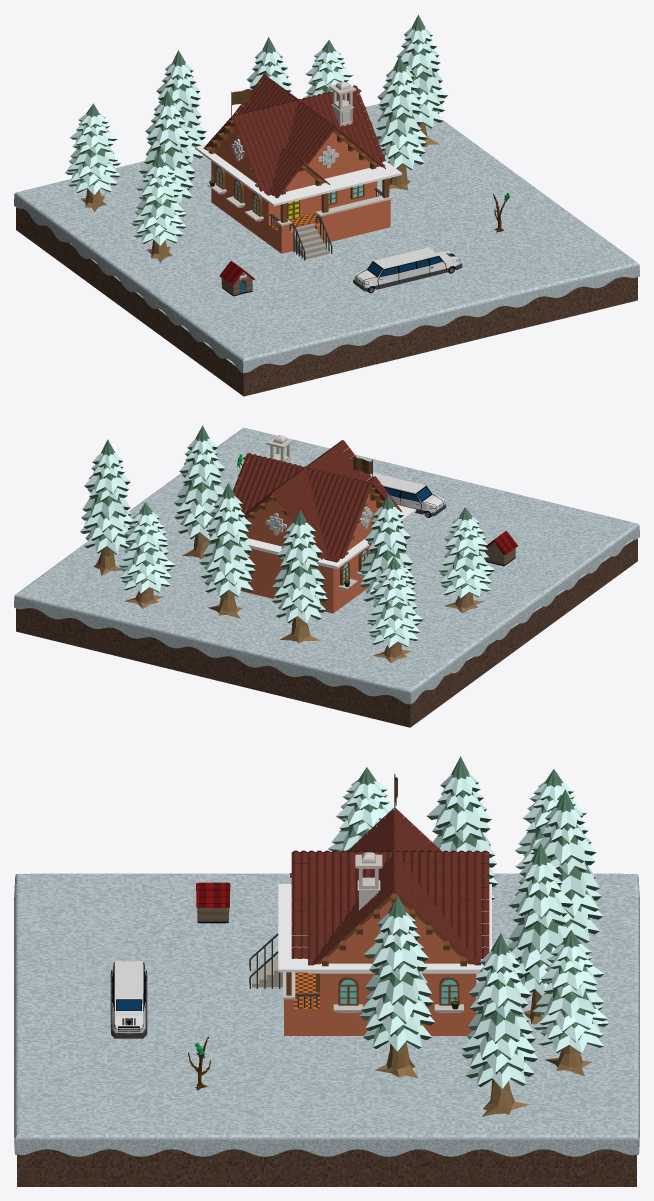
3 views of the same model, one above another, from view 1: azimuth 30°, elevation 25°; view 2: azimuth 150°, elevation 25°; view 3: azimuth 270°, elevation 25° (orthographic). The views are drawn at different scales.
Visible parts, largest first — view 1: Cube.003, Cube.1141, VEHICLES_LIMOUSINE, OBJRANDOM_DOGHOUSE; view 2: Cube.003, Cube.1141, VEHICLES_LIMOUSINE, OBJRANDOM_DOGHOUSE; view 3: Cube.003, Cube.1141, VEHICLES_LIMOUSINE, OBJRANDOM_DOGHOUSE.
Boxes of the visible parts, left/top/right/bottom form: Cube.003: left=14, top=14, right=639, bottom=396; Cube.1141: left=195, top=75, right=401, bottom=260; VEHICLES_LIMOUSINE: left=353, top=247, right=462, bottom=293; OBJRANDOM_DOGHOUSE: left=219, top=261, right=254, bottom=296; Cube.003: left=14, top=425, right=639, bottom=727; Cube.1141: left=209, top=435, right=416, bottom=613; VEHICLES_LIMOUSINE: left=366, top=472, right=446, bottom=517; OBJRANDOM_DOGHOUSE: left=485, top=531, right=517, bottom=566; Cube.003: left=14, top=756, right=639, bottom=1186; Cube.1141: left=249, top=774, right=491, bottom=1035; VEHICLES_LIMOUSINE: left=110, top=961, right=147, bottom=1038; OBJRANDOM_DOGHOUSE: left=196, top=882, right=230, bottom=923.
Size of the model in its own units: 4040 by 1753 by 4040.
Materials: 48 (3 with a texture image).
